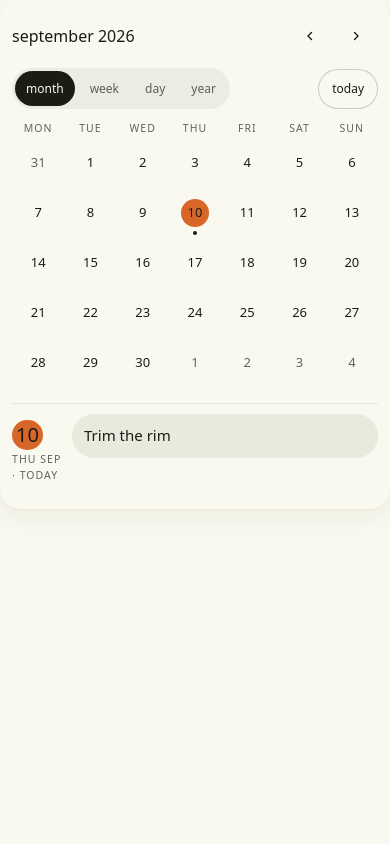
Test: CollectionCalendar — month span chrome and empty state (#262 1/3) › selecting a day’s event in the mobile focus list (KAN-358) › clicking a focus-list row draws the selected ring and opens the record peek
Click the text "Trim the rim": (225, 436) [72, 414, 378, 458]
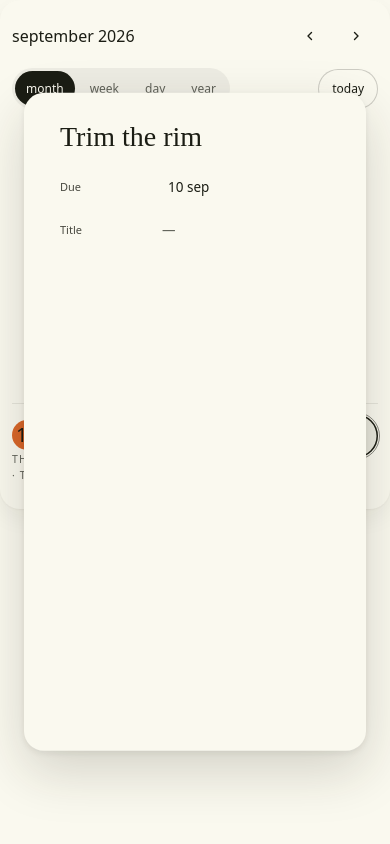
Result: the element named "Record: Trim the rim" is shown
